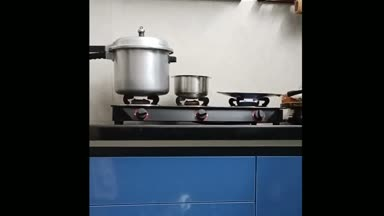flame_gas_off: (120, 93, 159, 120), (178, 95, 215, 123)
flame_gas_on: (233, 98, 273, 123)
